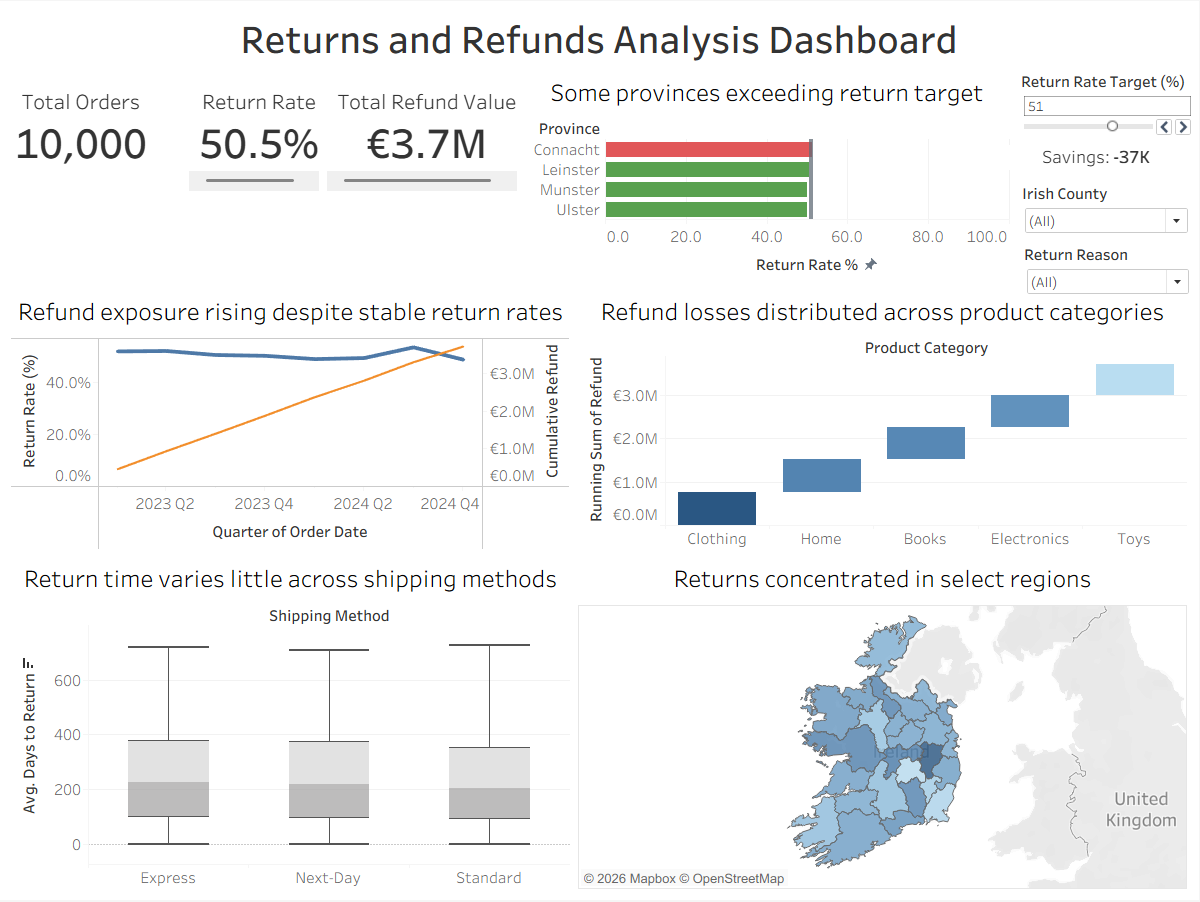

What the dashboard file says about the page in this screenshot:
{"tool":"tableau","page":{"name":"Returns Dashboard","canvas":[1200,900],"ordinal":0},"visuals":[{"type":"title","box":[8,8,1184,59]},{"type":"worksheet","title":"KPI-Total Orders","mark":"Automatic","box":[8,67,178,219]},{"type":"worksheet","title":"KPI2 - Return Rate","mark":"Automatic","box":[186,67,138,219]},{"type":"worksheet","title":"KPI 3 - Total Refund Value","mark":"Automatic","box":[324,67,198,219]},{"type":"worksheet","title":"Bullet - Province vs Target","mark":"Bar","rows":["Province"],"cols":["Calculation_1501162987540485"],"box":[522,67,503,219]},{"type":"parameter","param":"[Parameters].[Parameter 1]","box":[1022,70,173,71]},{"type":"worksheet","title":"What-If Savings","mark":"Automatic","box":[1008,129,187,79]},{"type":"filter","title":"Return Rate by County","param":"[federated.1mgwske1o2lvai14mdubq0qgn9vt].[none:Irish_County:nk]","box":[1023,182,169,53]},{"type":"filter","title":"Waterfall - Refund by Category","param":"[federated.1mgwske1o2lvai14mdubq0qgn9vt].[none:Return_Reason:nk]","box":[1025,243,168,66]},{"type":"worksheet","title":"Return Rate vs Refund Exposure","mark":"Line","rows":["Calculation_1501162986094596","Calculation_1501162985365506"],"cols":["Order_Date"],"box":[8,286,567,267.5]},{"type":"worksheet","title":"Waterfall - Refund by Category","mark":"GanttBar","rows":["Calculation_1501162985365506"],"cols":["Product_Category"],"box":[575,286,617,267.5]},{"type":"worksheet","title":"Box Plot - Days by Shipping","mark":"Circle","rows":["Calculation_1501162987872262"],"cols":["Shipping_Method"],"box":[8,553.4,566.5,338.6]},{"type":"worksheet","title":"Return Rate by County","mark":"Multipolygon","box":[574.5,553.4,617.5,338.6]}]}

Visuals, with their boxes in screenshot pixels (x1, y1, x2, y2), scaled from the page's 1200x900 canvas onto the 1200x902 screenshot:
title: bbox=[8, 8, 1192, 67]
"KPI-Total Orders" worksheet: bbox=[8, 67, 186, 287]
"KPI2 - Return Rate" worksheet: bbox=[186, 67, 324, 287]
"KPI 3 - Total Refund Value" worksheet: bbox=[324, 67, 522, 287]
"Bullet - Province vs Target" worksheet (Bar marks): bbox=[522, 67, 1025, 287]
parameter: bbox=[1022, 70, 1195, 141]
"What-If Savings" worksheet: bbox=[1008, 129, 1195, 208]
"Return Rate by County" filter: bbox=[1023, 182, 1192, 236]
"Waterfall - Refund by Category" filter: bbox=[1025, 244, 1193, 310]
"Return Rate vs Refund Exposure" worksheet (Line marks): bbox=[8, 287, 575, 555]
"Waterfall - Refund by Category" worksheet (GanttBar marks): bbox=[575, 287, 1192, 555]
"Box Plot - Days by Shipping" worksheet (Circle marks): bbox=[8, 555, 574, 894]
"Return Rate by County" worksheet (Multipolygon marks): bbox=[574, 555, 1192, 894]
